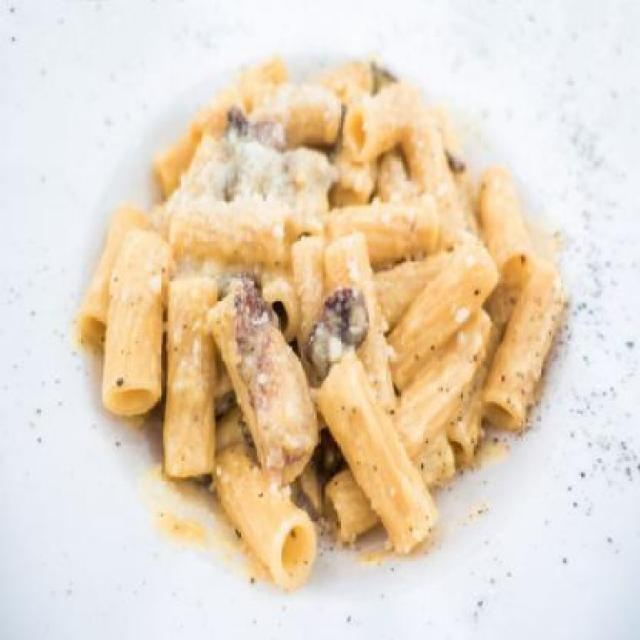Pasta with carbonara sauce: (87, 32, 605, 572)
